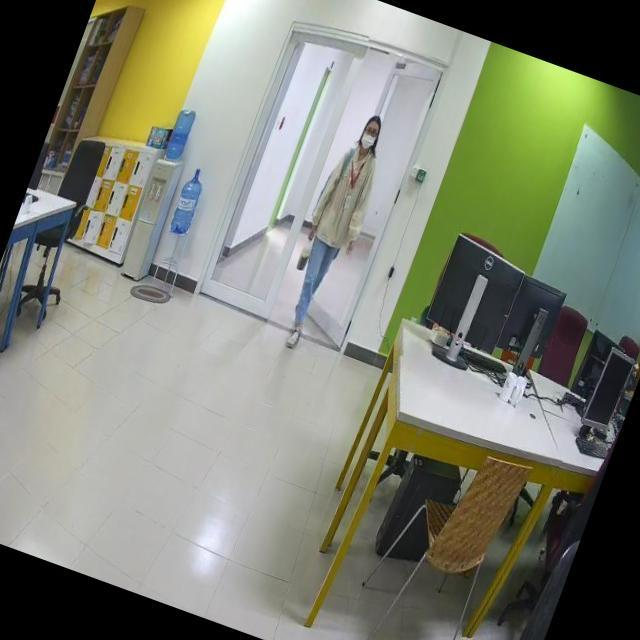person: (268, 103, 401, 357)
